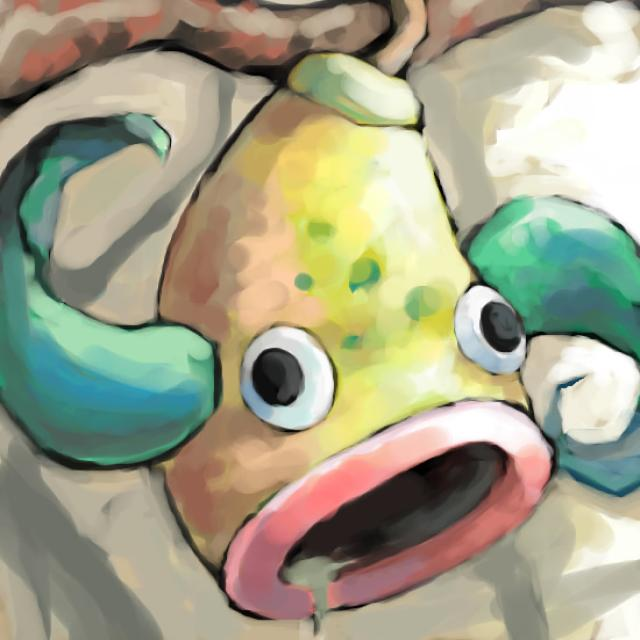Weepinbell: (140, 41, 553, 616)
